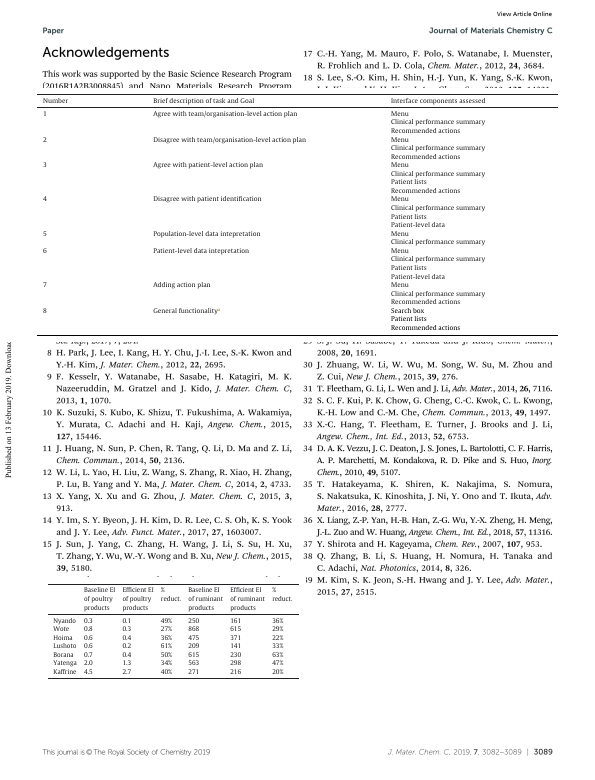borderless: (36, 93, 558, 335), (47, 582, 299, 678)
cell: (389, 162, 485, 196), (389, 196, 485, 230), (389, 248, 485, 282), (389, 136, 485, 162), (389, 111, 485, 136), (389, 282, 485, 307), (389, 308, 461, 333), (389, 230, 485, 247), (152, 136, 306, 145), (152, 111, 298, 119), (152, 196, 262, 205), (152, 230, 261, 239), (152, 97, 255, 106), (187, 587, 224, 612), (229, 587, 266, 612), (152, 162, 263, 170), (389, 97, 486, 106), (83, 587, 116, 612), (122, 587, 155, 612), (152, 248, 249, 256), (152, 307, 221, 316), (152, 282, 211, 290), (271, 587, 294, 603), (160, 587, 182, 603), (41, 97, 69, 106), (52, 668, 78, 677), (52, 642, 77, 651), (52, 660, 78, 668), (52, 617, 77, 625), (52, 651, 75, 659), (52, 634, 74, 642), (52, 625, 70, 634), (160, 625, 173, 634), (187, 625, 200, 634), (229, 625, 242, 634), (271, 625, 284, 634), (160, 642, 173, 651), (187, 642, 200, 651), (229, 642, 242, 651), (271, 642, 284, 651), (160, 668, 173, 677), (187, 668, 200, 677), (229, 668, 242, 677), (271, 668, 284, 677), (160, 617, 173, 625), (187, 617, 200, 625), (229, 617, 242, 625), (271, 617, 284, 625), (160, 634, 173, 642), (187, 634, 200, 642), (229, 634, 242, 642), (271, 634, 284, 642), (160, 651, 173, 659), (187, 651, 200, 659), (229, 651, 242, 659), (271, 651, 284, 659), (160, 660, 173, 668), (187, 660, 200, 668), (229, 660, 242, 668), (271, 660, 284, 668), (83, 625, 94, 634), (83, 642, 94, 651), (83, 668, 94, 677), (122, 625, 132, 634), (122, 642, 132, 651), (122, 668, 132, 677), (83, 617, 94, 625), (83, 634, 94, 642), (83, 651, 94, 659), (83, 660, 94, 668), (122, 617, 132, 625), (122, 634, 132, 642), (122, 651, 132, 659), (122, 660, 132, 668), (41, 136, 47, 145), (41, 196, 47, 205), (41, 230, 47, 239), (41, 111, 47, 119), (41, 162, 47, 170), (41, 248, 47, 256), (41, 282, 47, 290), (41, 308, 47, 316)
